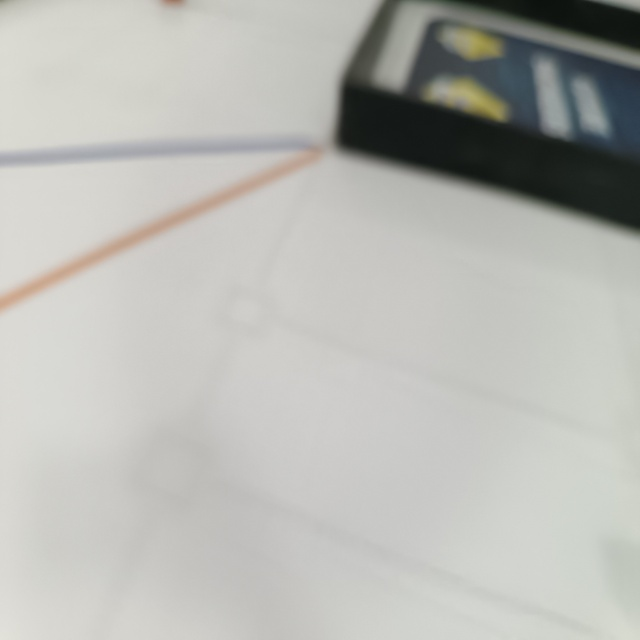blue line: (0, 142, 328, 171)
orange line: (0, 139, 318, 318)
